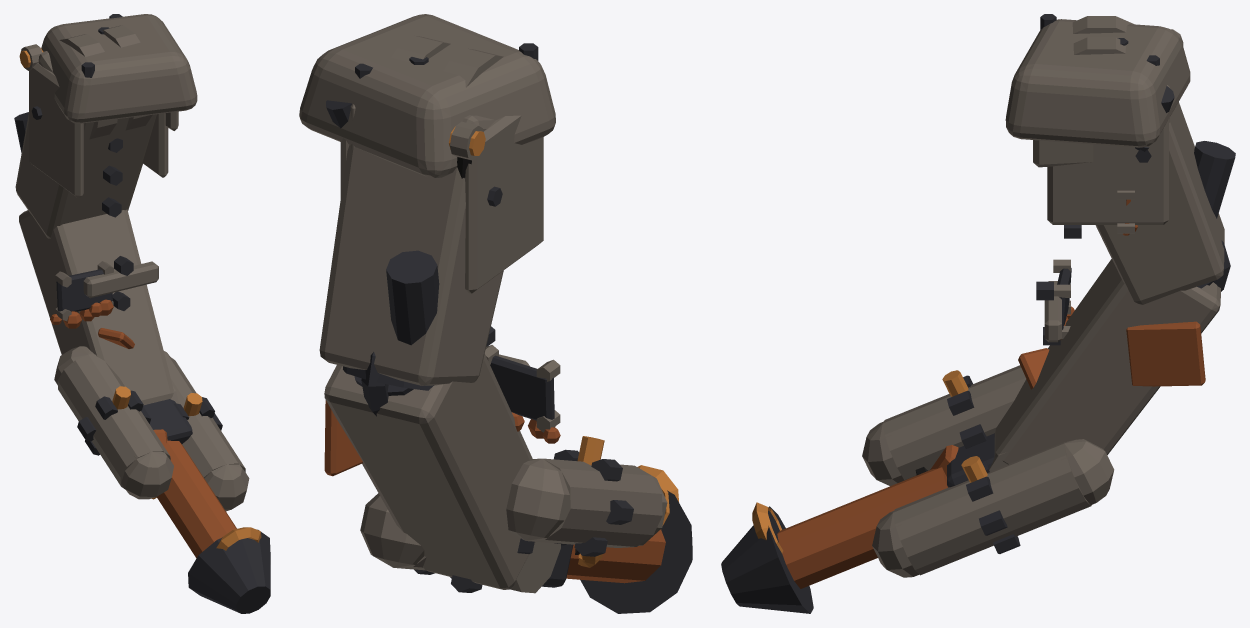
Rendered from ar_flamer.glb.
The picture shows the model from 3 angles, left to right: view 1: azimuth 30°, elevation 25°; view 2: azimuth 150°, elevation 25°; view 3: azimuth 270°, elevation 25°; orthographic projection. The views are drawn at different scales.
Visible parts, largest first — view 1: ar_flamer; view 2: ar_flamer; view 3: ar_flamer.
Part boxes in pixels (box(x1,y1,x2,y2)): ar_flamer: box(14, 14, 270, 613); ar_flamer: box(299, 14, 692, 613); ar_flamer: box(721, 14, 1235, 613).
Bounding box in the file's own units: 0.1379 × 0.4046 × 0.328.
